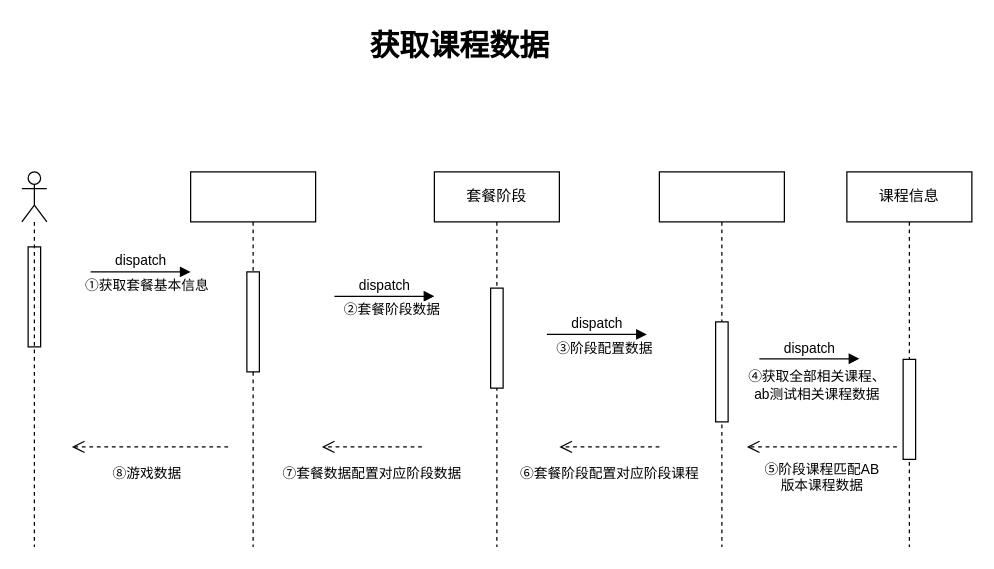
The diagram is 994 pixels wide and 569 high, and some of its shapes have lost their labels. Each missing label, with the centre of its shape:
套餐: pixel 252 359
阶段课程: pixel 721 359
